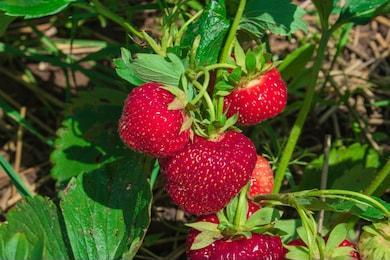Fresa: (154, 119, 264, 224), (110, 76, 197, 163), (209, 47, 293, 128)
